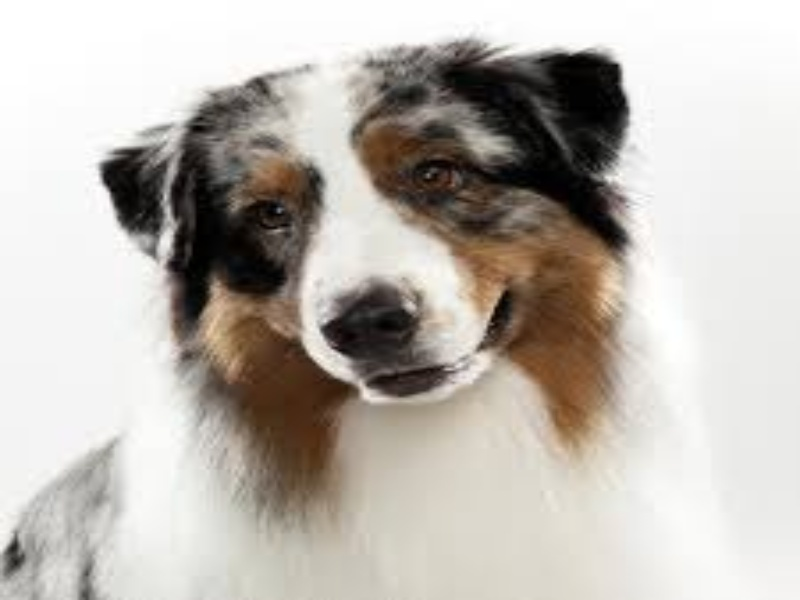dog: (37, 40, 663, 566)
